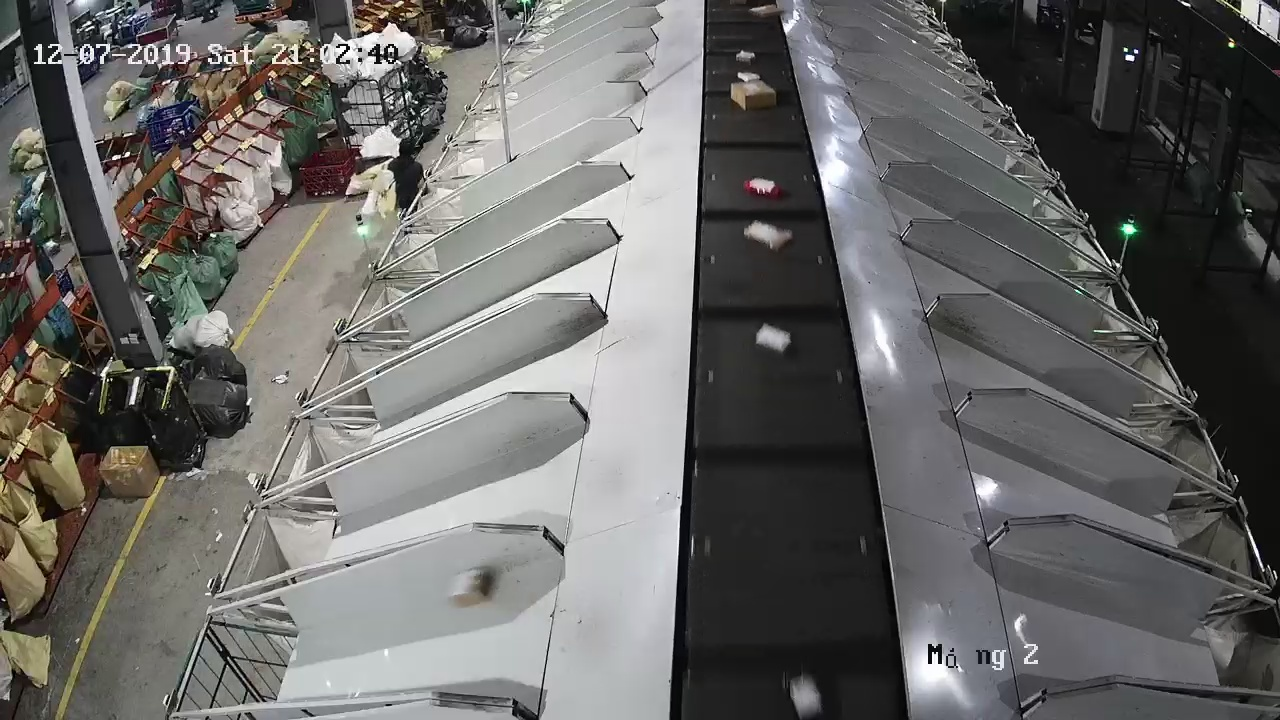parcel: (447, 566, 490, 608)
